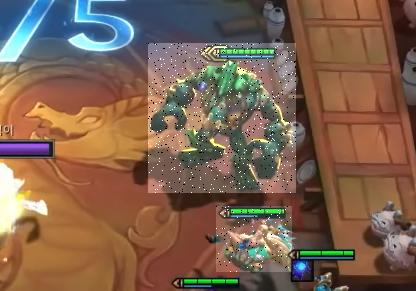1_seraphine: (216, 206, 292, 272)
3_malphite: (148, 43, 296, 193)
